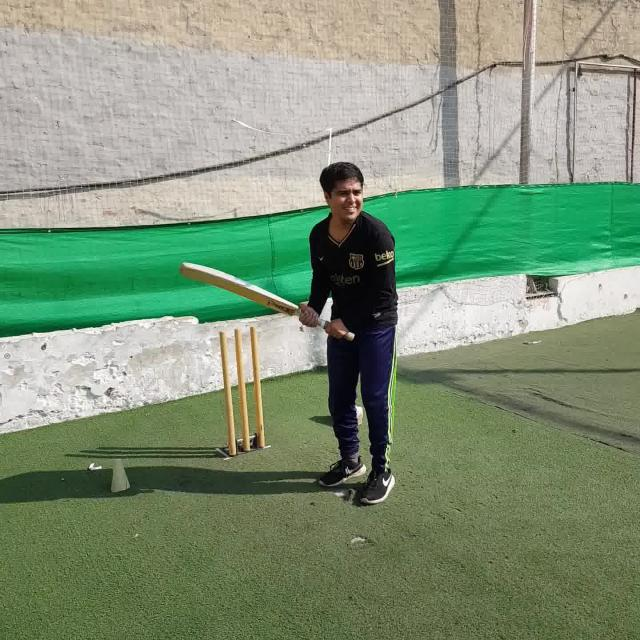bat: (180, 262, 355, 340)
